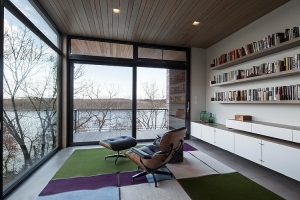chair: (125, 127, 187, 188)
